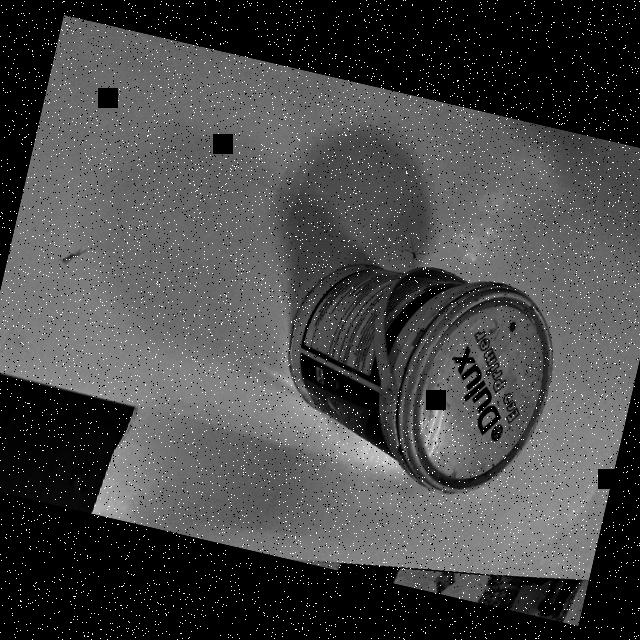paint_bucket: (248, 220, 576, 516)
